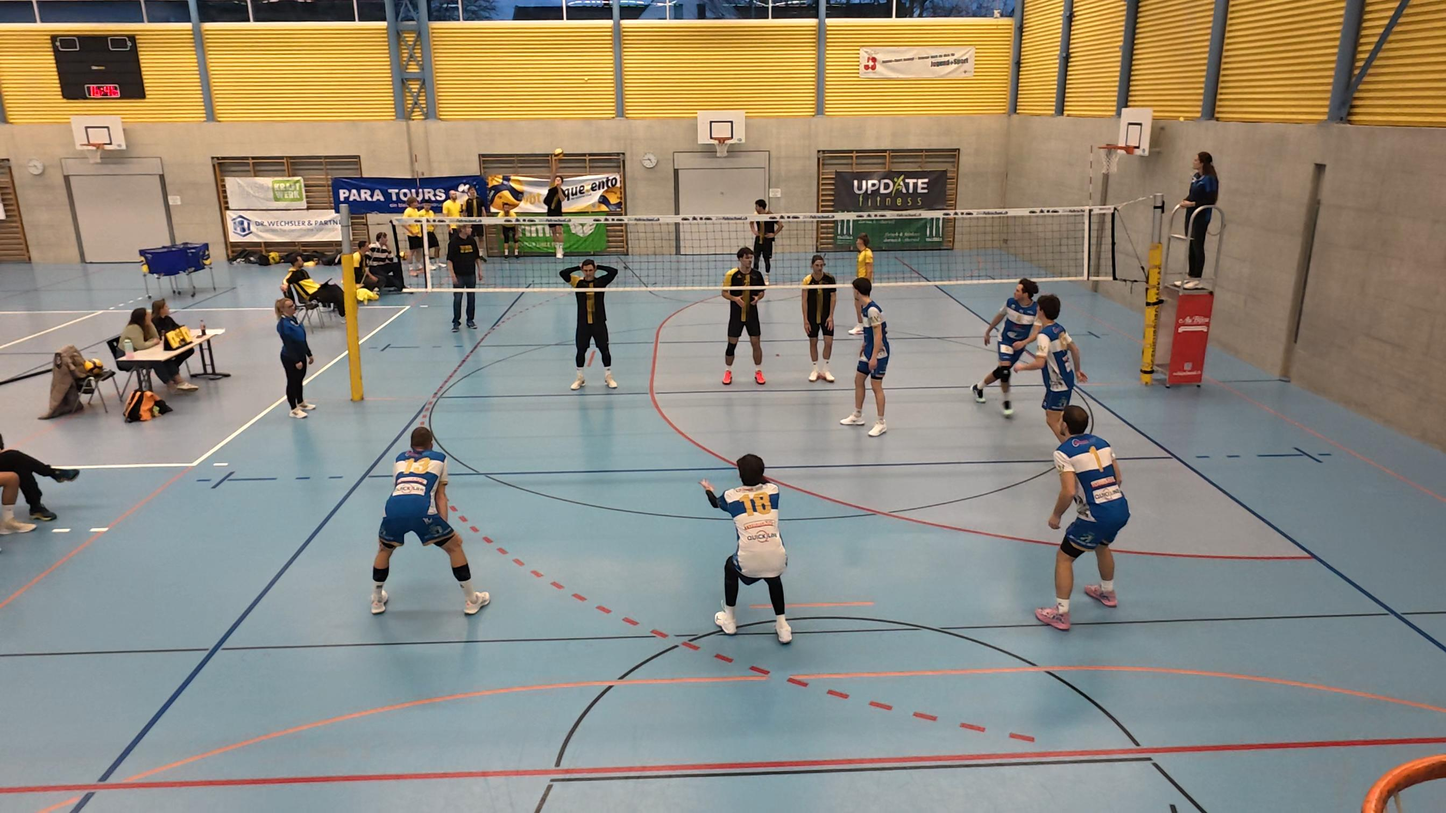Player: (370, 426, 491, 615), (1037, 409, 1127, 629), (699, 451, 795, 646), (968, 274, 1042, 418), (1026, 290, 1092, 440), (839, 286, 890, 435), (563, 258, 619, 391), (722, 250, 769, 387), (798, 254, 841, 383), (746, 198, 786, 289), (850, 236, 876, 315)
Serve: (543, 145, 570, 263)
ball: (552, 146, 565, 160)
